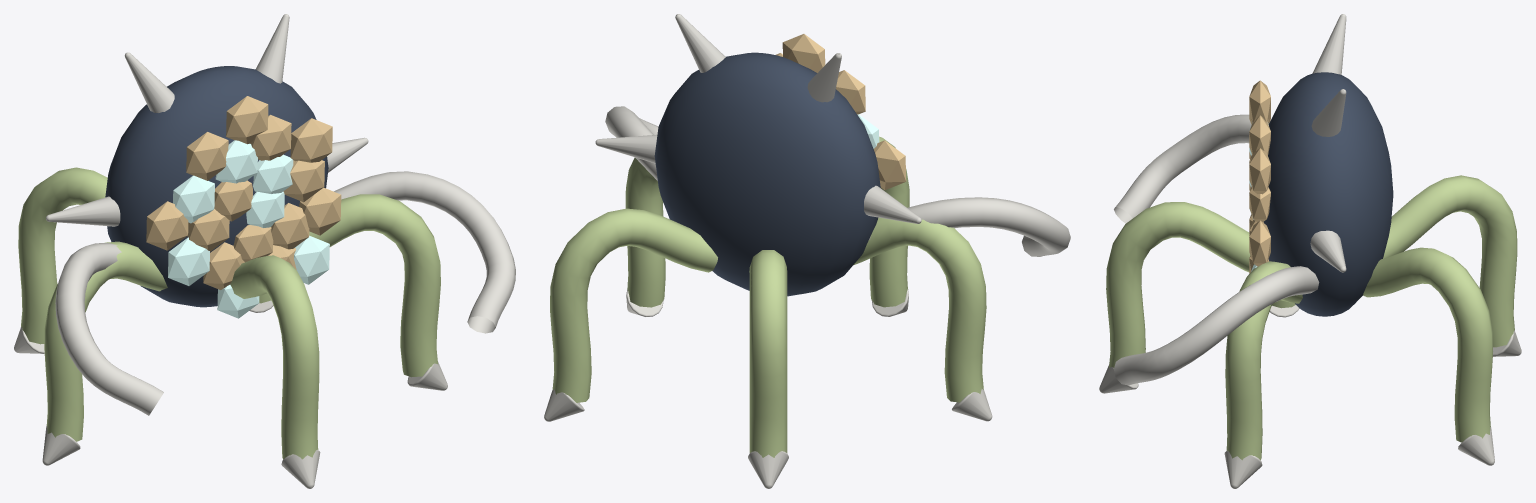
Rendered from bio_crown_stalker_05_near.glb.
The picture shows the model from 3 angles, left to right: view 1: azimuth 30°, elevation 25°; view 2: azimuth 150°, elevation 25°; view 3: azimuth 270°, elevation 25°; orthographic projection. The views are drawn at different scales.
Visible parts, largest first — view 1: Faceted crown substrate, Compound lens facet.001, Compound lens facet, Crooked support.004, Crooked support.003, Scythe sensory limb.001, Crooked support.001, Scythe sensory limb, Crooked support.002, Crown radiating blade, Contact spur.003, Contact spur.002 (+1 smaller); view 2: Faceted crown substrate, Crooked support, Crooked support.002, Crooked support.001, Scythe sensory limb, Crown radiating blade, Crooked support.004, Compound lens facet.001, Crooked support.003, Scythe sensory limb.001, Contact spur.001, Contact spur (+1 smaller); view 3: Faceted crown substrate, Crooked support, Crooked support.003, Crooked support.001, Scythe sensory limb.001, Crooked support.004, Scythe sensory limb, Compound lens facet.001, Crown radiating blade, Contact spur.004, Contact spur, Contact spur.003.
Part boxes in pixels (x1,y1,x2,y2): Faceted crown substrate: [105, 66, 328, 307]; Compound lens facet.001: [146, 96, 341, 289]; Compound lens facet: [168, 140, 329, 318]; Crooked support.004: [309, 194, 440, 377]; Crooked support.003: [230, 255, 319, 459]; Scythe sensory limb.001: [334, 171, 515, 333]; Crooked support.001: [18, 167, 107, 344]; Scythe sensory limb: [55, 243, 163, 415]; Crooked support.002: [44, 241, 167, 441]; Crown radiating blade: [46, 14, 368, 226]; Contact spur.003: [281, 449, 320, 488]; Contact spur.002: [42, 426, 80, 465]; Faceted crown substrate: [654, 52, 880, 296]; Crooked support: [550, 208, 717, 402]; Crooked support.002: [853, 217, 986, 402]; Crooked support.001: [749, 250, 787, 457]; Scythe sensory limb: [869, 197, 1070, 256]; Crown radiating blade: [595, 14, 921, 223]; Crooked support.004: [625, 157, 665, 307]; Compound lens facet.001: [776, 34, 906, 190]; Crooked support.003: [869, 136, 909, 307]; Scythe sensory limb.001: [605, 106, 658, 180]; Contact spur.001: [748, 451, 788, 488]; Contact spur: [544, 389, 584, 421]; Faceted crown substrate: [1263, 72, 1393, 316]; Crooked support: [1363, 247, 1492, 442]; Crooked support.003: [1106, 202, 1250, 367]; Crooked support.001: [1383, 175, 1517, 347]; Scythe sensory limb.001: [1113, 266, 1319, 385]; Crooked support.004: [1225, 261, 1302, 460]; Scythe sensory limb: [1114, 114, 1270, 223]; Compound lens facet.001: [1249, 80, 1270, 273]; Crown radiating blade: [1310, 14, 1346, 272]; Contact spur.004: [1224, 450, 1262, 488]; Contact spur: [1458, 427, 1494, 465]; Contact spur.003: [1099, 364, 1138, 393].
Size of the model in its own units: 2.58 by 2.03 by 2.22.
